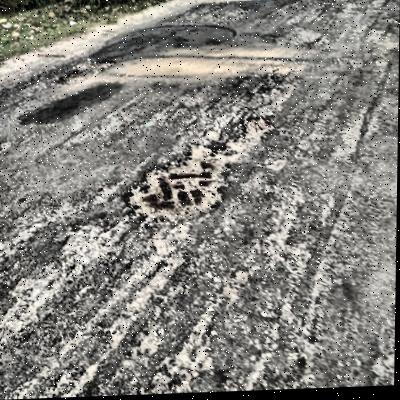pothole: (116, 142, 235, 231), (56, 59, 116, 86), (242, 116, 274, 145)
